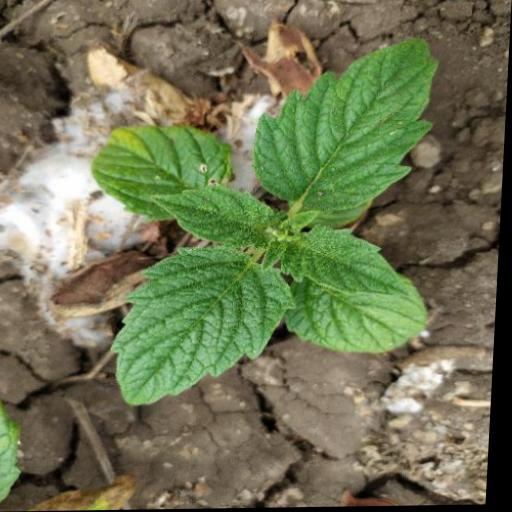crop: (75, 23, 465, 426)
